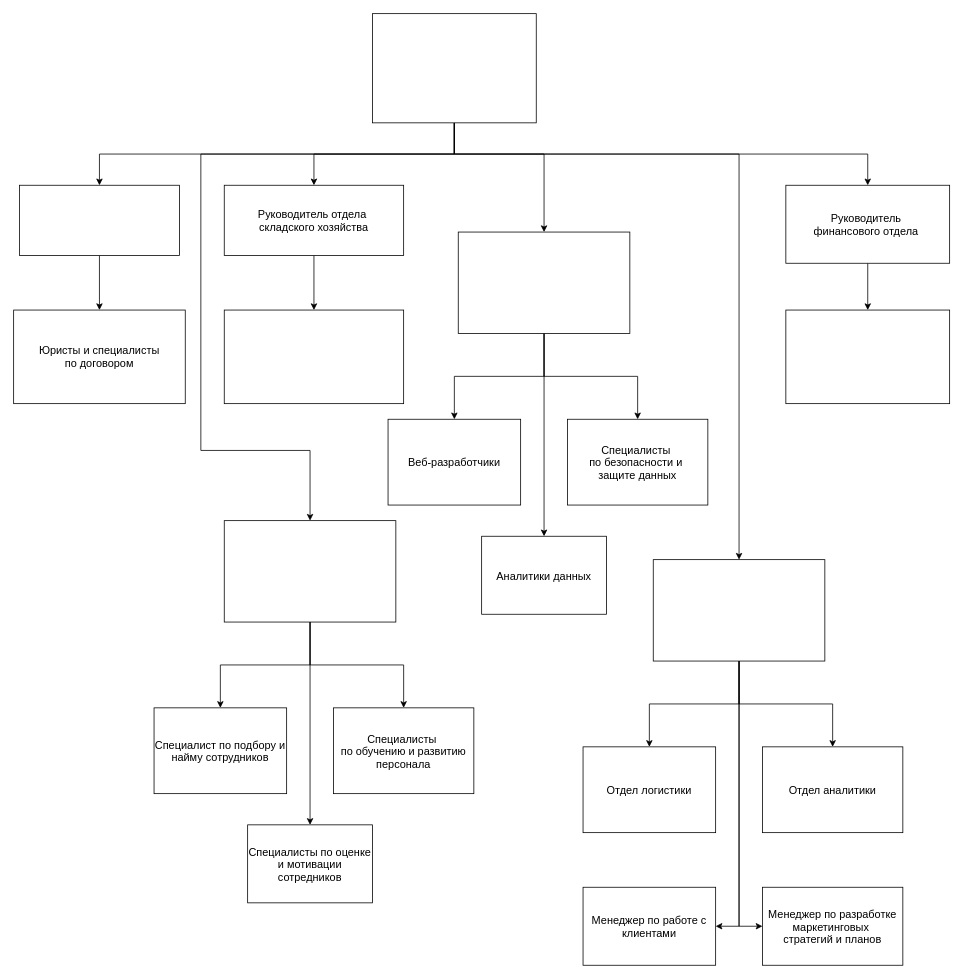
The diagram is 963 pixels wide and 979 high, and some of its shapes have lost their labels. The shapes that lost their labels are listed below. From the top down, each one's box as (x1, y1, x2, y2) in pixels, then its label:
(372, 13, 536, 123): Генеральный директор
(19, 184, 179, 255): Руководитель юридического отдела
(457, 231, 630, 333): Руководитель отдела информационных технологий
(223, 309, 404, 404): Менеджер по управления складскими запасами и контролю качества товаров на складе
(785, 309, 950, 404): Бухгалтеры и финансовые специалисты
(223, 520, 396, 622): Руководитель отдела управления персоналом
(652, 559, 825, 661): Руководитель отдела маркетинга и продаж
